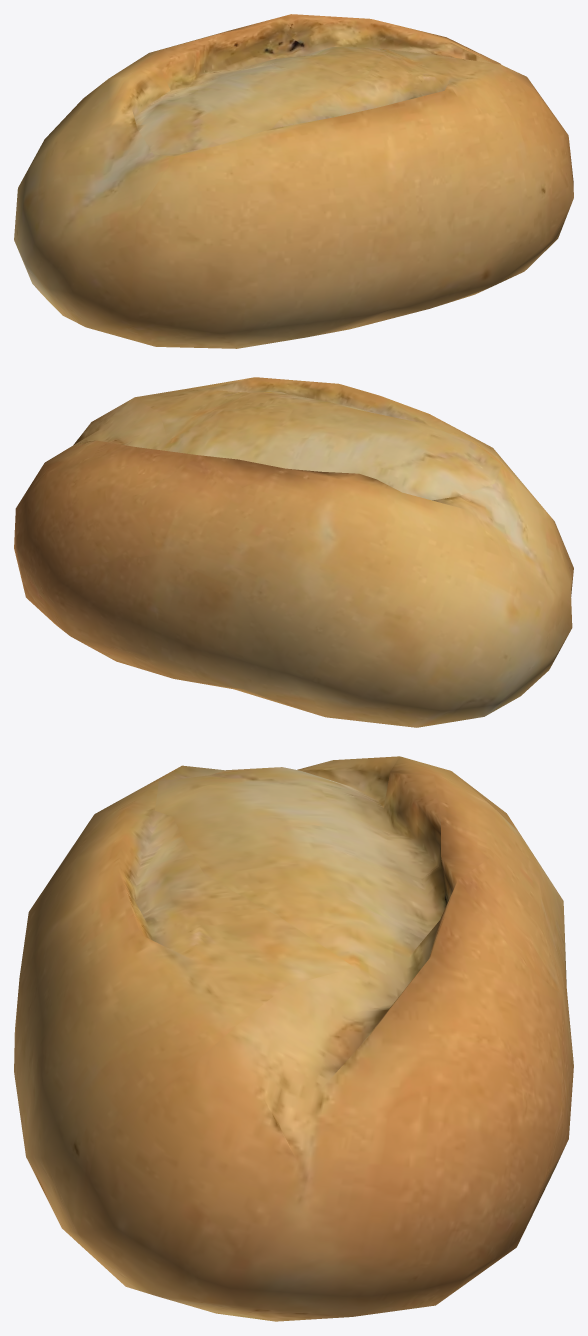
File: 3DBread007.glb
The picture shows the model from 3 angles, top to bottom: view 1: azimuth 30°, elevation 25°; view 2: azimuth 150°, elevation 25°; view 3: azimuth 270°, elevation 25°; orthographic projection. The views are drawn at different scales.
Visible parts, largest first — view 1: 3DBread007; view 2: 3DBread007; view 3: 3DBread007.
Boxes of the visible parts, <box> form: 3DBread007: <box>14,14,573,348</box>; 3DBread007: <box>14,377,573,727</box>; 3DBread007: <box>14,756,573,1321</box>.
Bounding box in the file's own units: 0.1291 × 0.0528 × 0.0813.
1 material, 1 textured.
